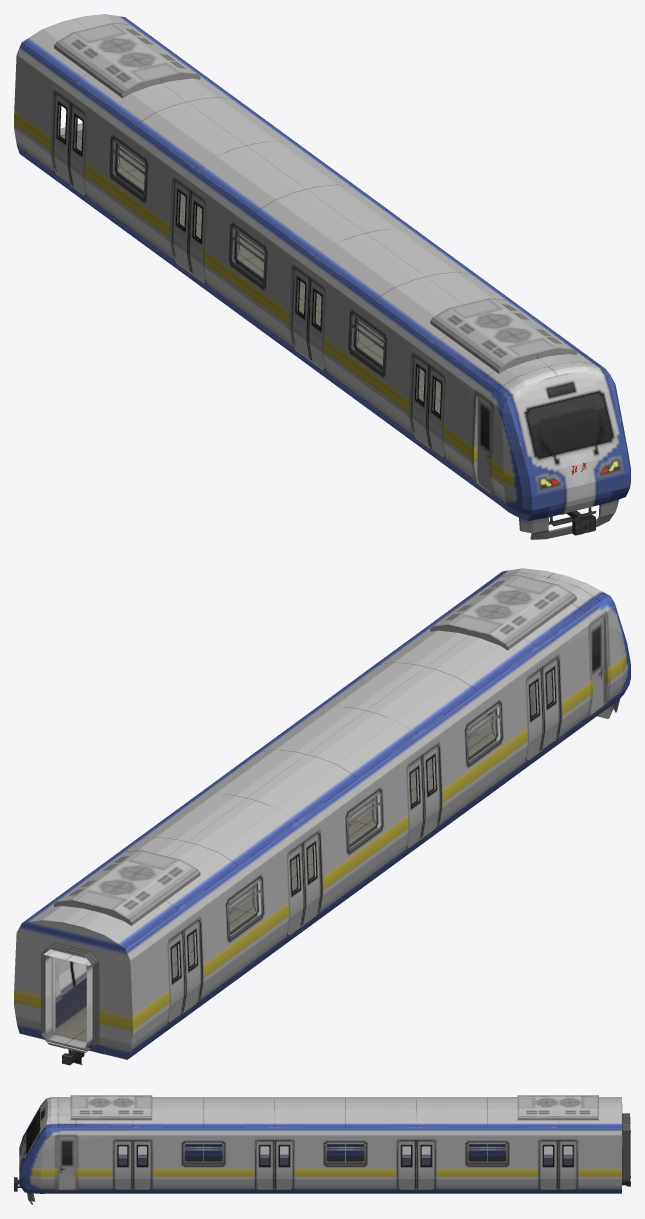
The model's file is dkz_5g.obj.
3 renders of one model, top to bottom at view 1: azimuth 30°, elevation 25°; view 2: azimuth 150°, elevation 25°; view 3: azimuth 270°, elevation 25°, orthographic. The views are drawn at different scales.
Visible parts, largest first — view 1: window_exterior, head_exterior, end_exterior, door_right_negative_exterior, door_right_positive_exterior, window; view 2: window_exterior, end_exterior, head_exterior, door_right_positive_exterior, door_right_negative_exterior, window, end, head; view 3: window_exterior, head_exterior, end_exterior, door_left_negative_exterior, door_left_positive_exterior, window, door_right_negative, door_right_positive.
Boxes of the visible parts, left/top/right/bottom form: window_exterior: left=54, top=22, right=576, bottom=454; head_exterior: left=428, top=317, right=630, bottom=539; end_exterior: left=14, top=14, right=177, bottom=192; door_right_negative_exterior: left=52, top=92, right=430, bottom=447; door_right_positive_exterior: left=69, top=103, right=444, bottom=457; window: left=112, top=125, right=440, bottom=413; window_exterior: left=54, top=574, right=576, bottom=1020; end_exterior: left=14, top=883, right=184, bottom=1065; head_exterior: left=434, top=568, right=630, bottom=757; door_right_positive_exterior: left=182, top=657, right=560, bottom=1012; door_right_negative_exterior: left=168, top=668, right=543, bottom=1022; window: left=75, top=690, right=500, bottom=989; end: left=43, top=949, right=92, bottom=1051; head: left=467, top=671, right=552, bottom=738; window_exterior: left=70, top=1095, right=598, bottom=1193; head_exterior: left=14, top=1097, right=132, bottom=1204; end_exterior: left=558, top=1097, right=630, bottom=1193; door_left_negative_exterior: left=132, top=1140, right=577, bottom=1189; door_left_positive_exterior: left=113, top=1140, right=558, bottom=1189; window: left=138, top=1127, right=552, bottom=1165; door_right_negative: left=138, top=1140, right=572, bottom=1157; door_right_positive: left=118, top=1146, right=552, bottom=1157.
Size of the model in its own units: 2.88 by 3.56 by 21.75.
4 materials, 4 textured.
